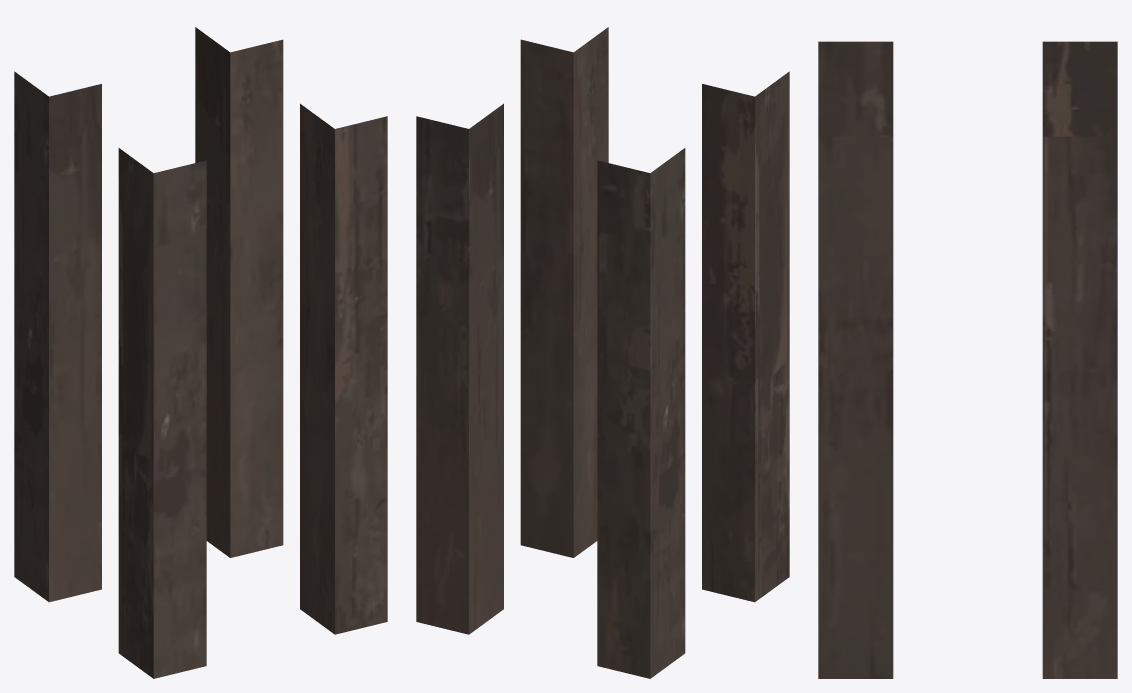
3 renders of one model, left to right at view 1: azimuth 30°, elevation 25°; view 2: azimuth 150°, elevation 25°; view 3: azimuth 270°, elevation 25°, orthographic. The views are drawn at different scales.
Parts seen in each view (by area): view 1: body0_model0_lod0_mesh0; view 2: body0_model0_lod0_mesh0; view 3: body0_model0_lod0_mesh0.
Boxes of the visible parts, box(x1,y1,x2,y2) form: body0_model0_lod0_mesh0: box(14, 27, 387, 678); body0_model0_lod0_mesh0: box(416, 27, 789, 678); body0_model0_lod0_mesh0: box(818, 41, 1117, 678).
Bounding box in the file's own units: 62.01 × 128 × 64.01.
1 material, 1 textured.
